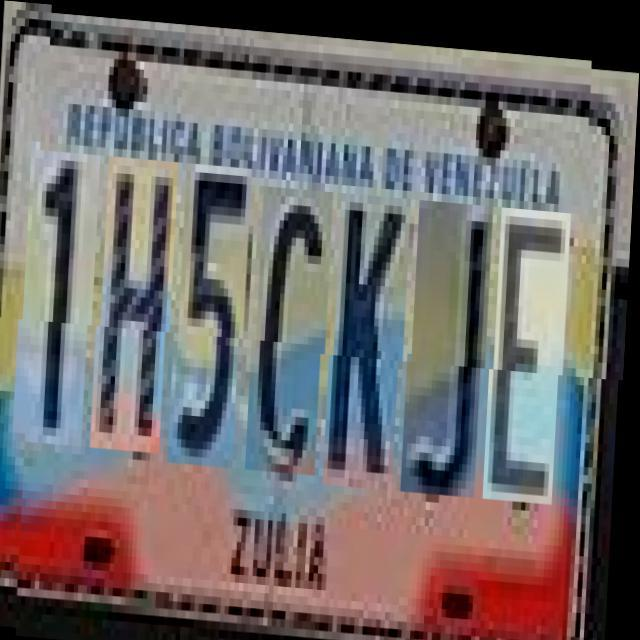1: (21, 148, 102, 444)
5: (176, 160, 254, 463)
C: (254, 182, 335, 469)
E: (492, 198, 573, 494)
H: (99, 154, 180, 450)
J: (410, 192, 495, 489)
K: (332, 187, 413, 483)
